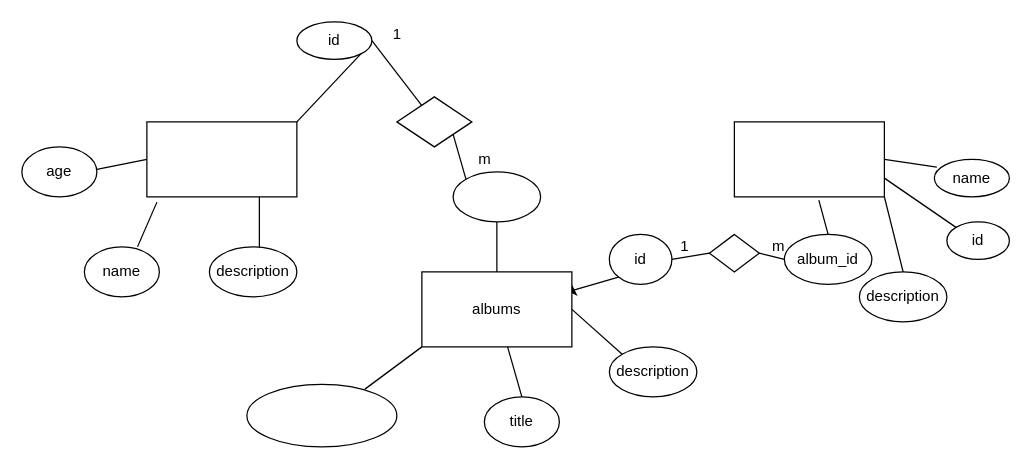
Image size: 1031x469. Some labels were removed from this diagram. The box of each missing label's shape, as (x1, y1, x2, y2) in pixels:
artist_id: (452, 171, 541, 222)
artists: (146, 121, 297, 197)
songs: (733, 121, 884, 197)
year_released: (246, 383, 397, 447)
